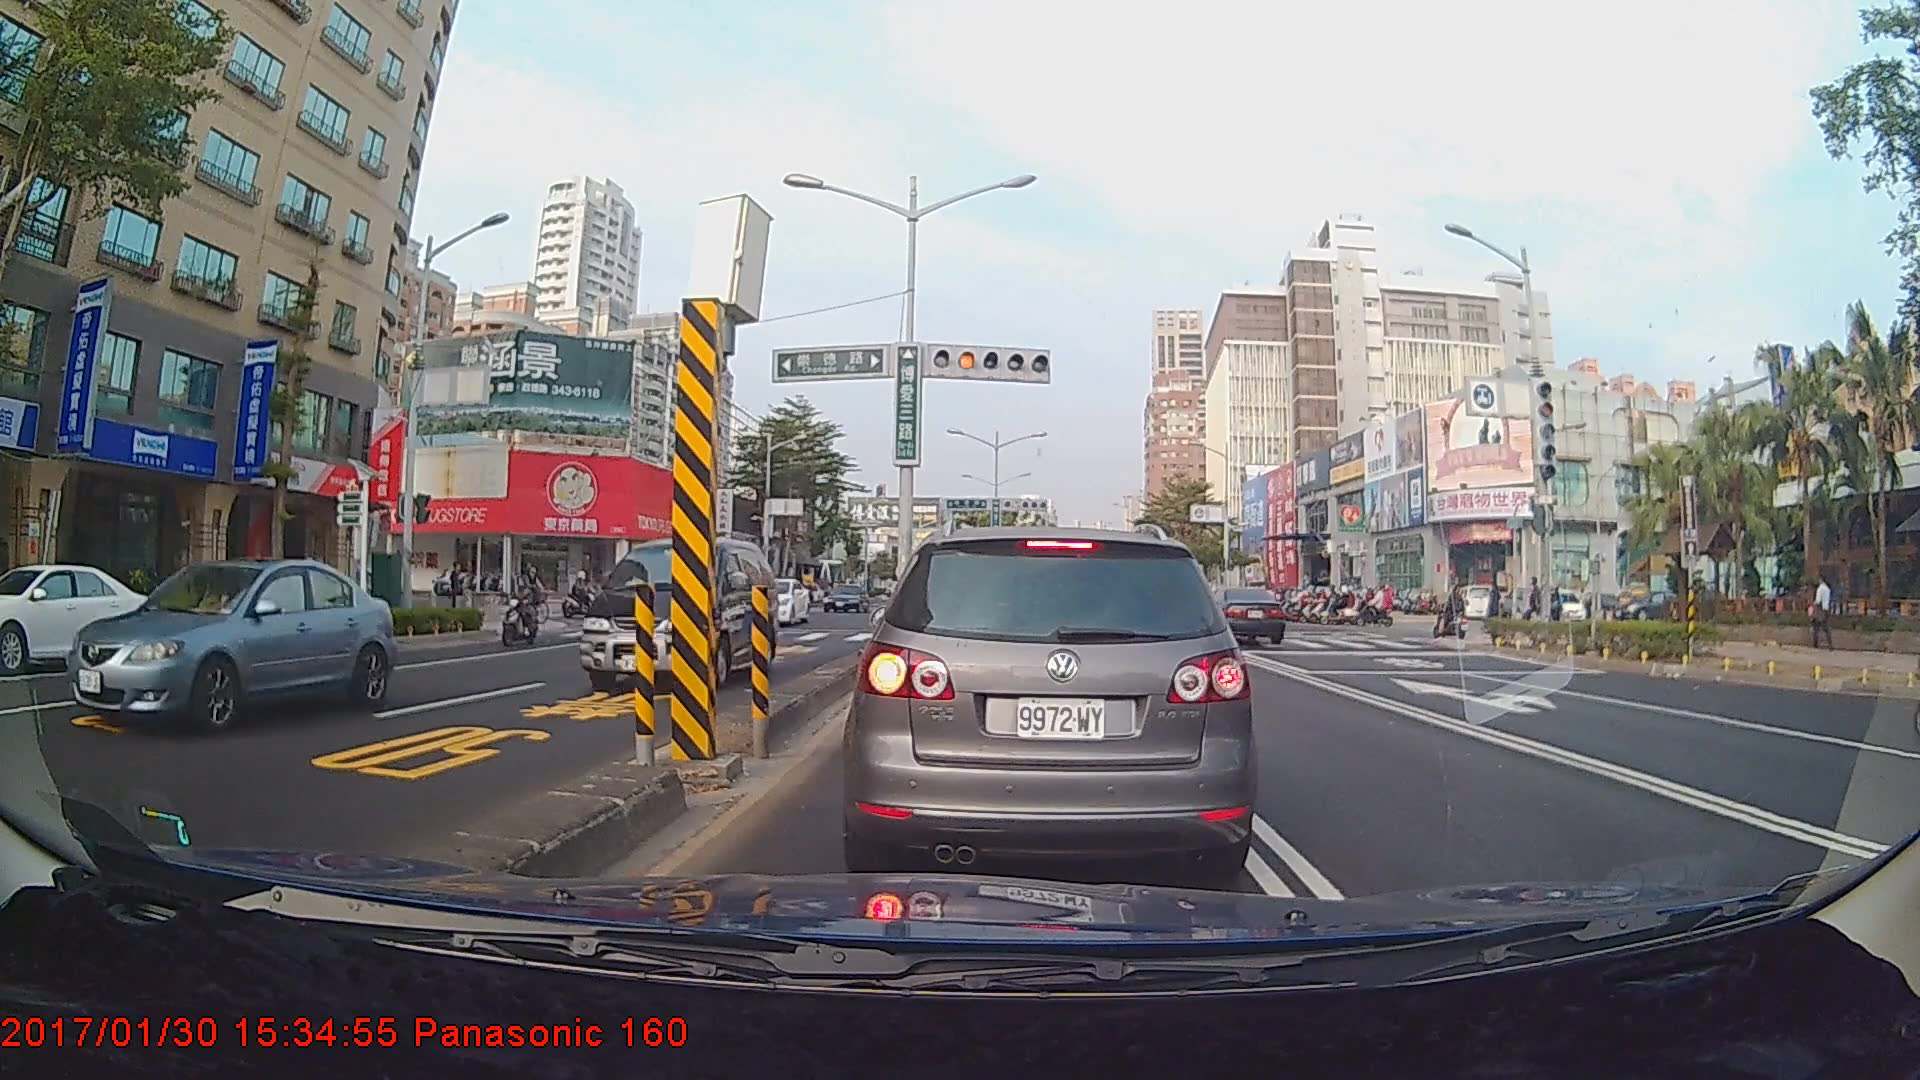pedestrian: (1809, 575, 1839, 650), (1484, 579, 1509, 637), (447, 558, 468, 621)
rider: (495, 575, 546, 653), (598, 573, 637, 638), (518, 559, 553, 629), (1436, 582, 1473, 646)
vehicle: (854, 523, 1251, 876), (66, 556, 391, 735), (576, 534, 780, 691), (0, 561, 154, 671), (1192, 583, 1285, 645), (731, 577, 810, 628), (820, 582, 868, 614)
